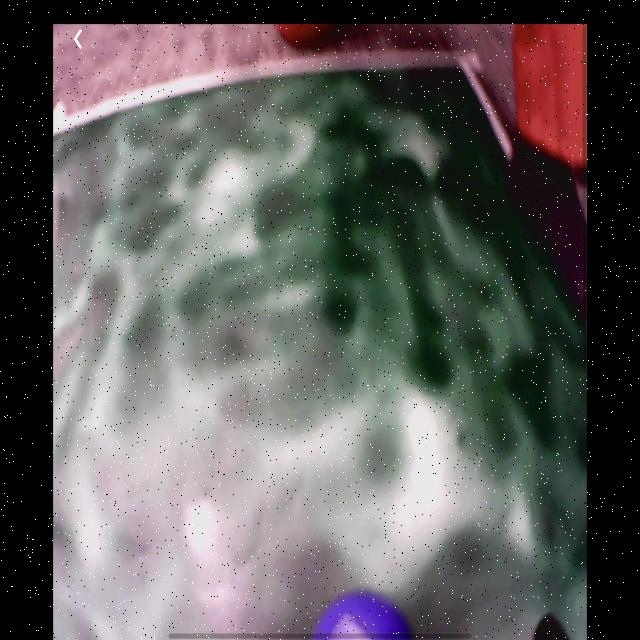ball: (319, 590, 413, 640)
